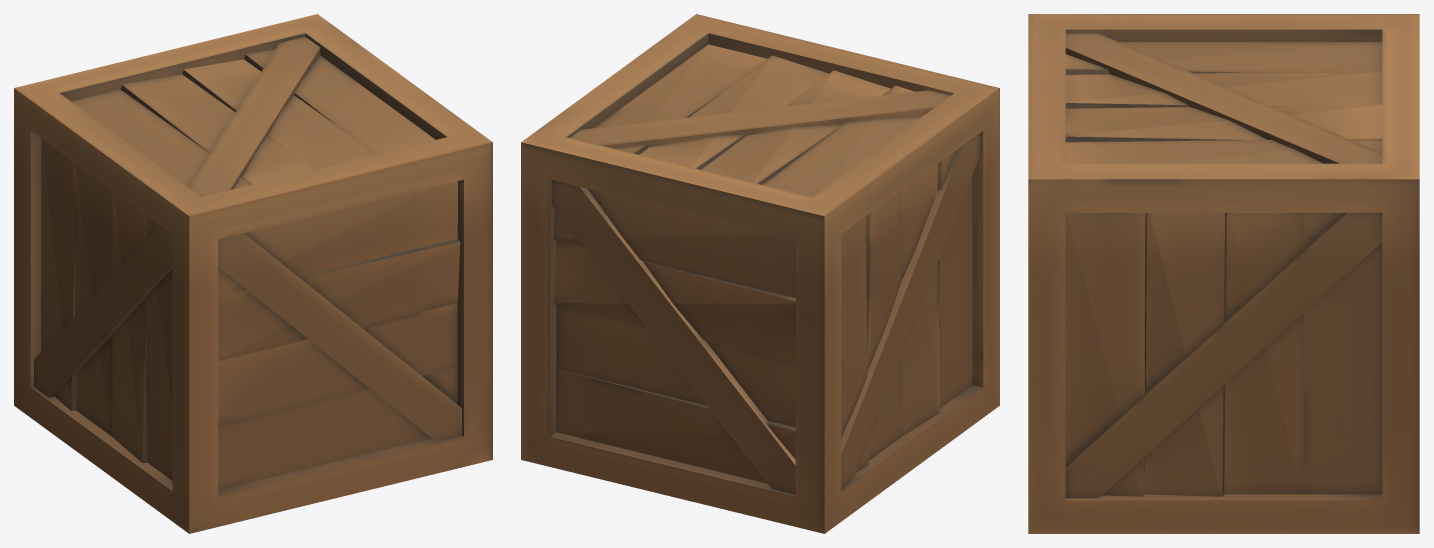
3 views of the same model, side by side, from view 1: azimuth 30°, elevation 25°; view 2: azimuth 150°, elevation 25°; view 3: azimuth 270°, elevation 25° (orthographic). The views are drawn at different scales.
Parts seen in each view (by area): view 1: Wooden_Box_Model.001; view 2: Wooden_Box_Model.001; view 3: Wooden_Box_Model.001.
Boxes of the visible parts, x1,y1,x2,y2 form: Wooden_Box_Model.001: (14,14,492,533); Wooden_Box_Model.001: (521,14,999,533); Wooden_Box_Model.001: (1028,14,1419,533).
Size of the model in its own units: 2 by 2 by 2.
Materials: 1 (1 with a texture image).
